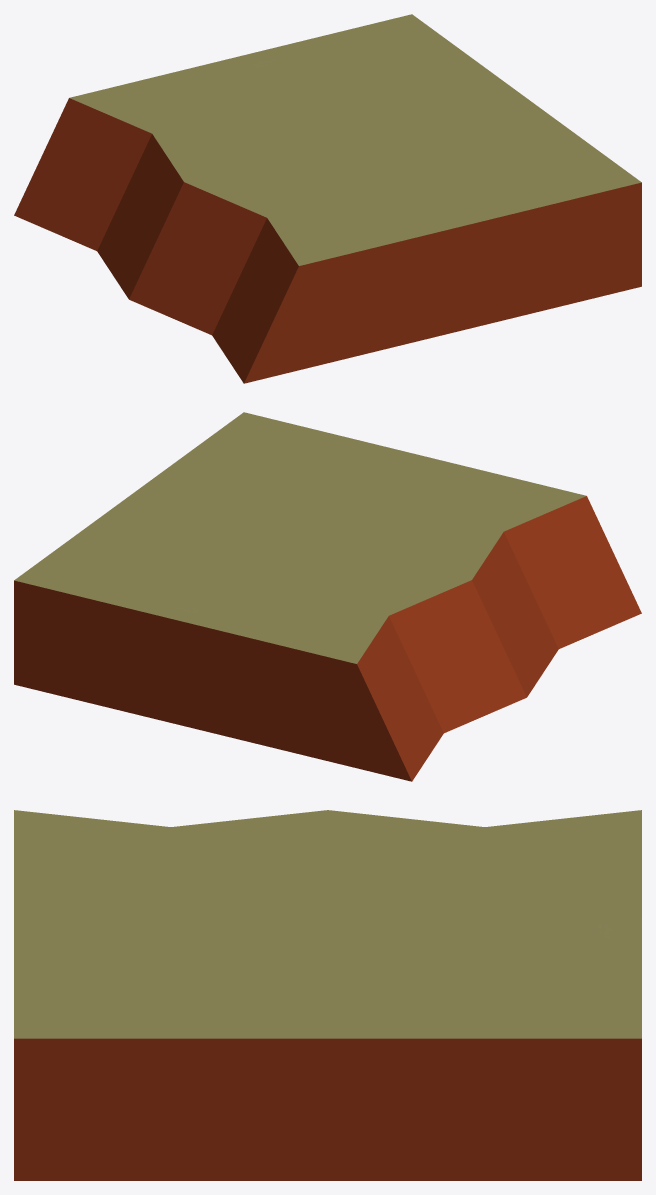
File: grass_end.fbx
3 views of the same model, one above another, from view 1: azimuth 30°, elevation 25°; view 2: azimuth 150°, elevation 25°; view 3: azimuth 270°, elevation 25° (orthographic). The views are drawn at different scales.
Visible parts, largest first — view 1: grass_end; view 2: grass_end; view 3: grass_end.
Part boxes in pixels (left/top/right/bottom): grass_end: left=14, top=14, right=641, bottom=383; grass_end: left=14, top=412, right=641, bottom=781; grass_end: left=14, top=810, right=641, bottom=1180.
Bounding box in the file's own units: 200 × 50 × 200.
1 material, 1 textured.
